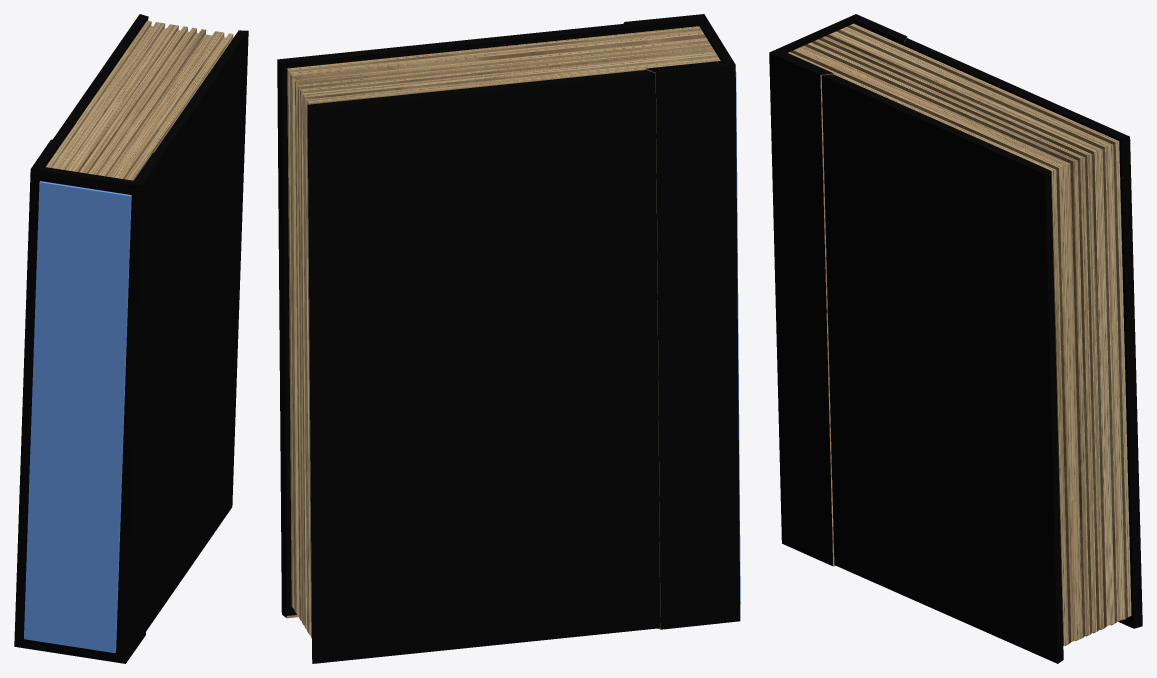
Rendered from ThirdShelfBook7.fbx.
The picture shows the model from 3 angles, left to right: view 1: azimuth 30°, elevation 25°; view 2: azimuth 150°, elevation 25°; view 3: azimuth 270°, elevation 25°; orthographic projection. The views are drawn at different scales.
Parts seen in each view (by area): view 1: SmallBook.004; view 2: SmallBook.004; view 3: SmallBook.004.
Boxes of the visible parts, <box> form: SmallBook.004: <box>14,14,248,663</box>; SmallBook.004: <box>277,14,740,663</box>; SmallBook.004: <box>769,14,1142,663</box>.
Bounding box in the file's own units: 104 × 150 × 102.
